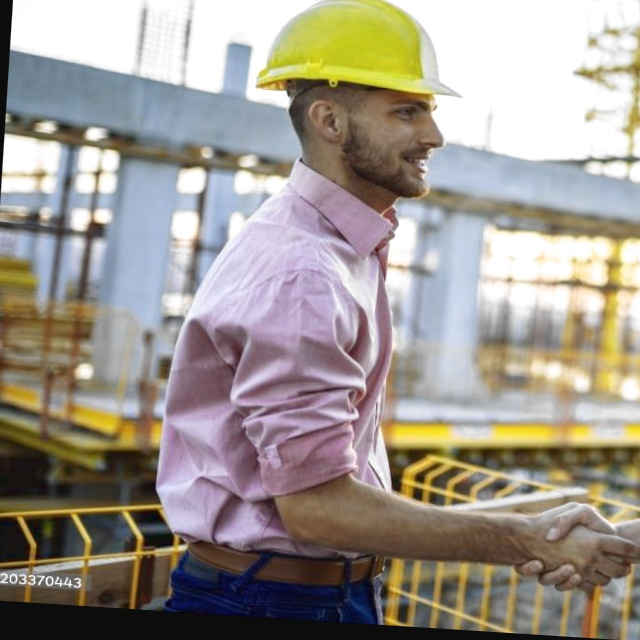Con_Casco: (249, 0, 467, 203)
Sin_Chaleco: (166, 188, 420, 561)
